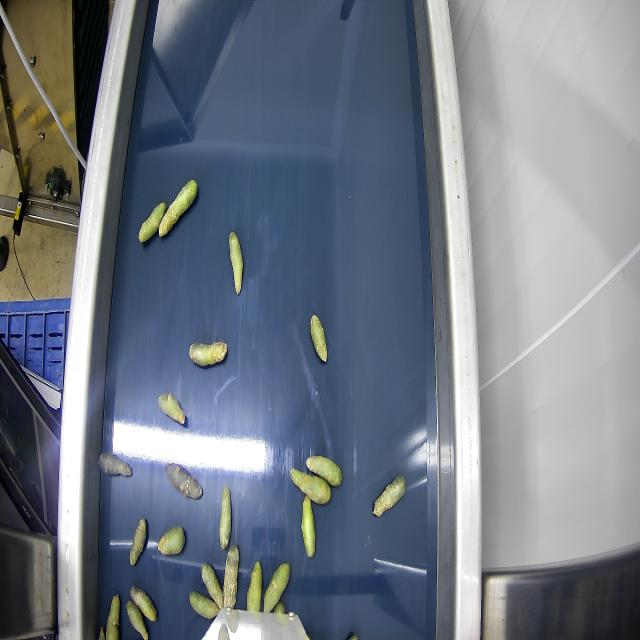Baby Potato: (292, 468, 332, 504), (372, 475, 406, 517), (263, 561, 289, 613), (166, 462, 202, 498), (129, 582, 157, 622), (189, 341, 227, 367), (228, 230, 243, 294), (157, 391, 185, 425), (301, 496, 316, 559), (130, 516, 148, 566), (310, 314, 328, 364), (98, 452, 132, 478), (157, 526, 185, 556), (189, 593, 219, 619), (219, 486, 231, 550)
